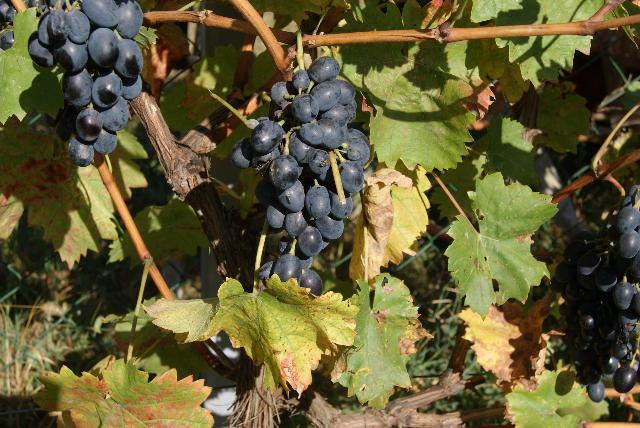grapes: (231, 56, 370, 296), (550, 185, 640, 402), (28, 0, 142, 166)
